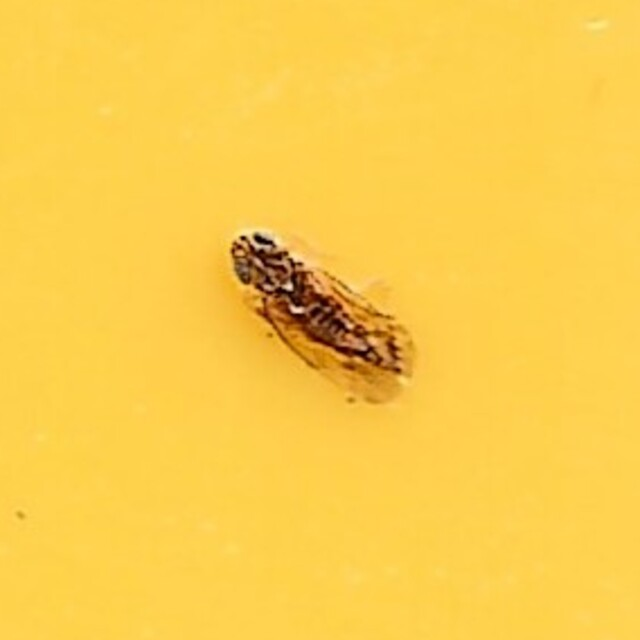Hemiptera: (225, 221, 415, 419)
